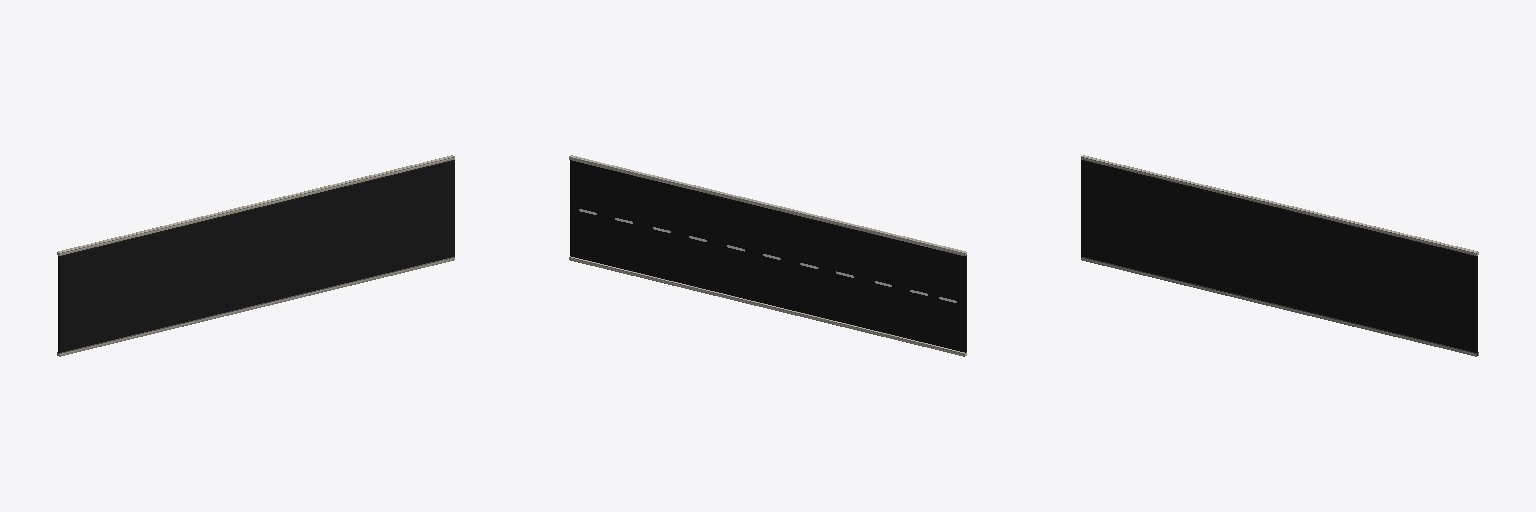
The picture shows the model from 3 angles: view 1: azimuth 30°, elevation 25°; view 2: azimuth 150°, elevation 25°; view 3: azimuth 330°, elevation 25°; orthographic projection.
Parts seen in each view (by area): view 1: asphalt-road-block-subwalk-16m_Plane.042; view 2: asphalt-road-block-subwalk-16m_Plane.042; view 3: asphalt-road-block-subwalk-16m_Plane.042.
Part boxes in pixels (left/top/right/bottom): asphalt-road-block-subwalk-16m_Plane.042: left=57, top=155, right=454, bottom=356; asphalt-road-block-subwalk-16m_Plane.042: left=569, top=155, right=966, bottom=356; asphalt-road-block-subwalk-16m_Plane.042: left=1081, top=155, right=1478, bottom=356.
Size of the model in its own units: 16 by 4 by 0.15.
Materials: 1 (1 with a texture image).